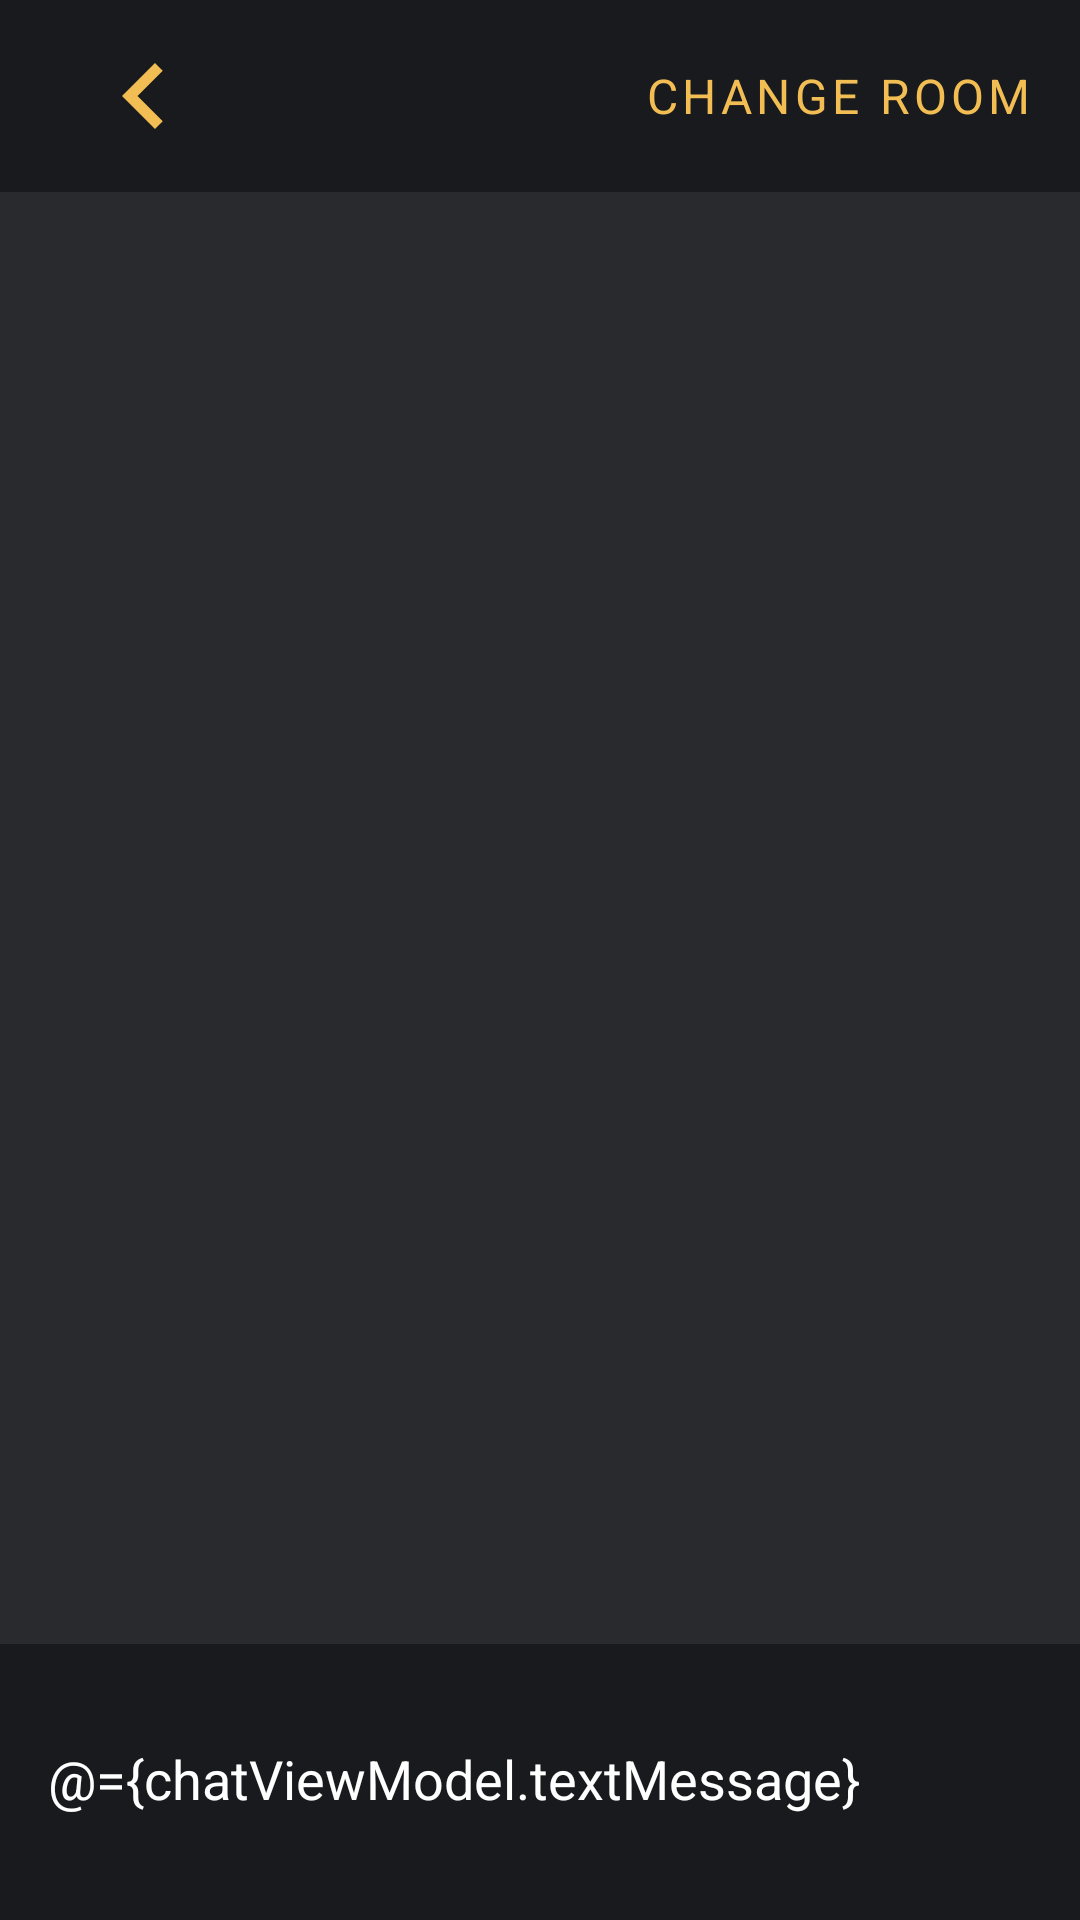

Icon bounding boxes for this 1080w x 1920h phone screenshot, format (x1, y1, x2, y2):
Go Back: (122, 63, 163, 129)
